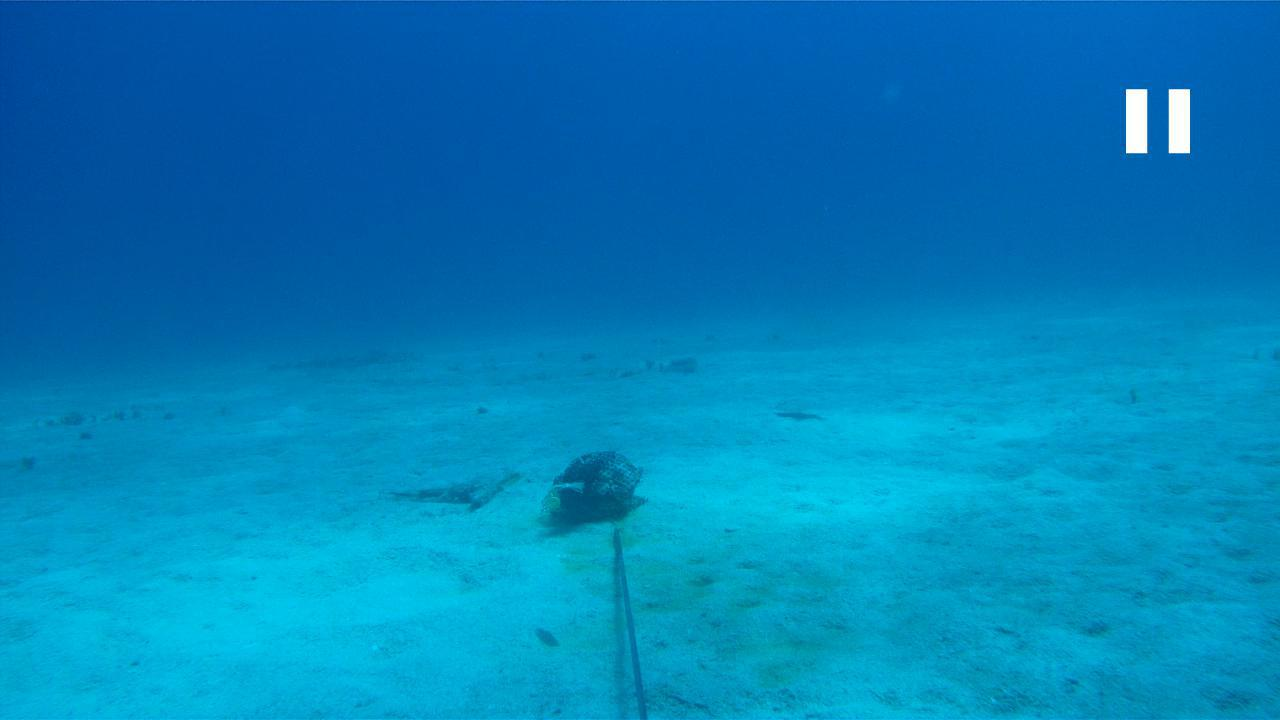bothus: (770, 392, 836, 412)
